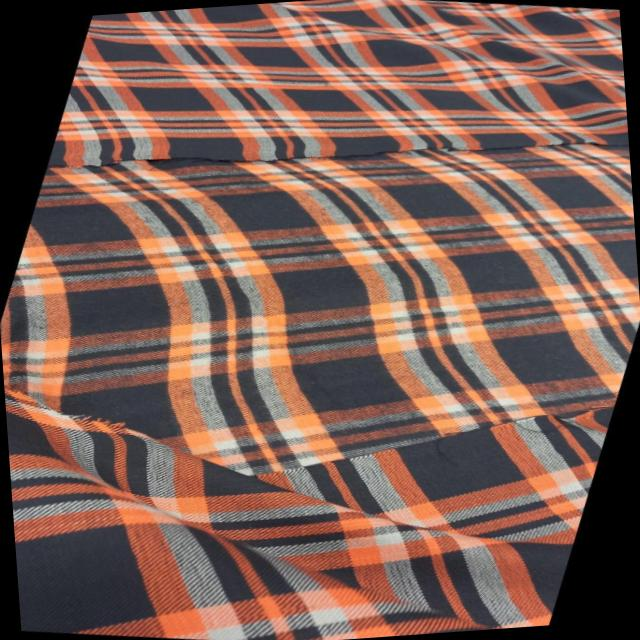cut: (1, 300, 610, 596), (40, 65, 632, 246)
